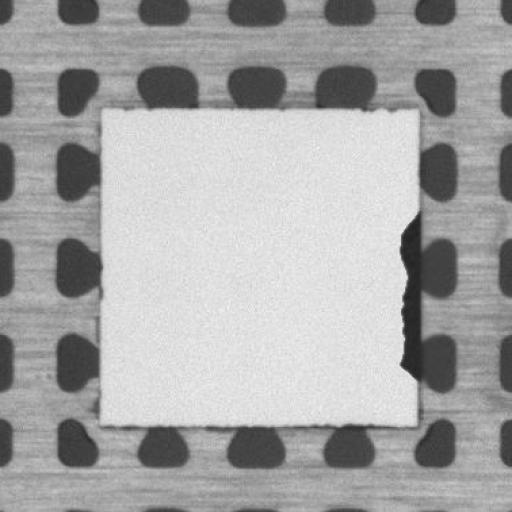DIE_BROKEN: (397, 211, 422, 381)
